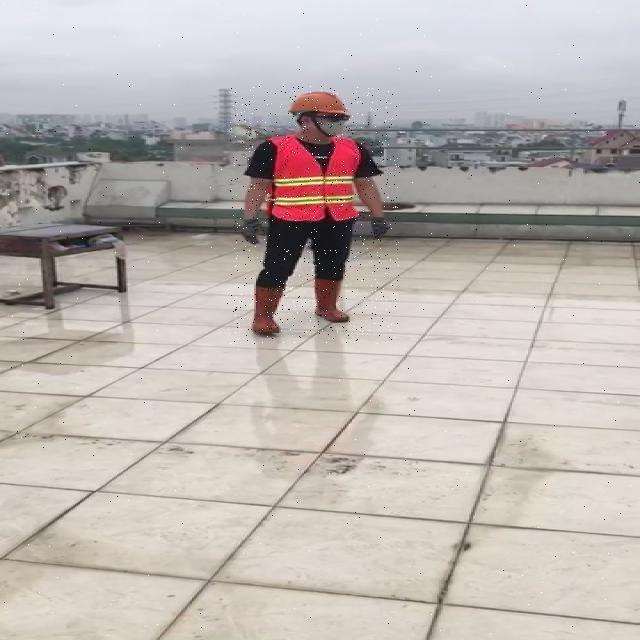Boots: (230, 86, 400, 344), (248, 284, 286, 336), (313, 280, 352, 324)
Helmet: (288, 90, 350, 119)
Vest: (270, 136, 358, 223)
